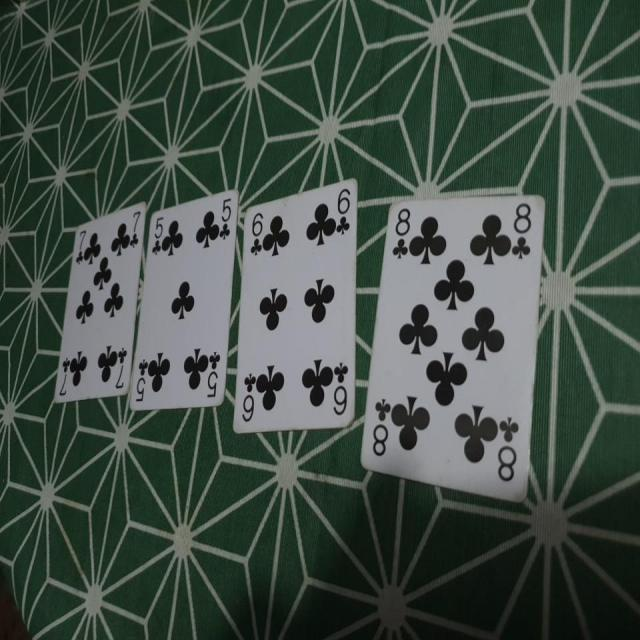5 Trefoils: (126, 188, 239, 412)
6 Trefoils: (230, 174, 359, 433)
7 Trefoils: (49, 202, 148, 402)
8 Trefoils: (359, 190, 548, 507)
